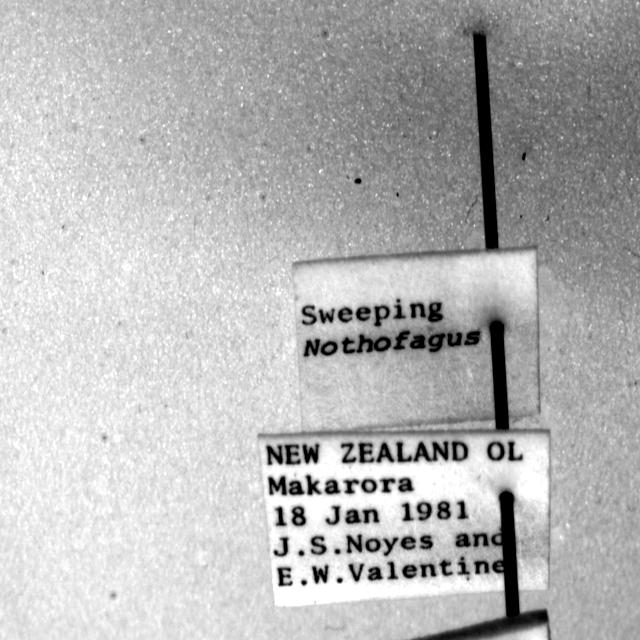typed_label: (259, 429, 550, 606), (294, 248, 540, 431)
